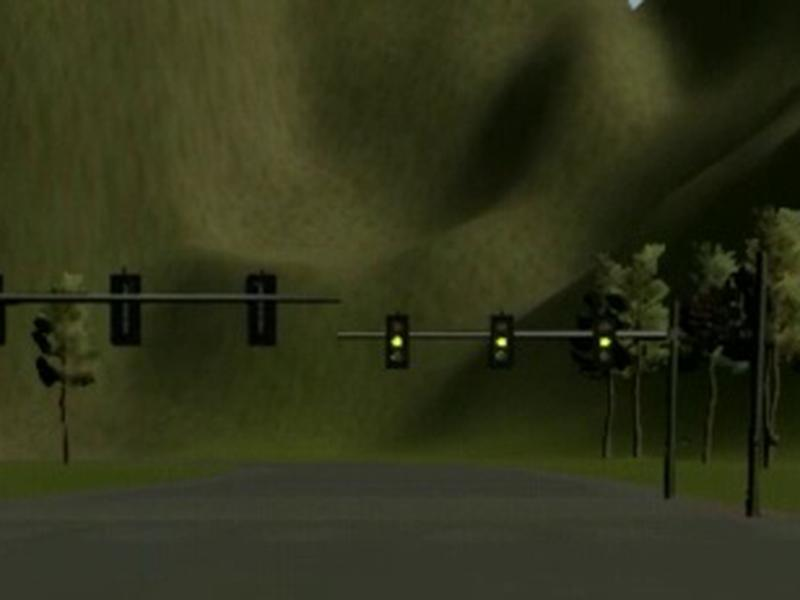Yellow: (384, 313, 410, 369), (488, 314, 513, 370), (591, 316, 616, 366)
